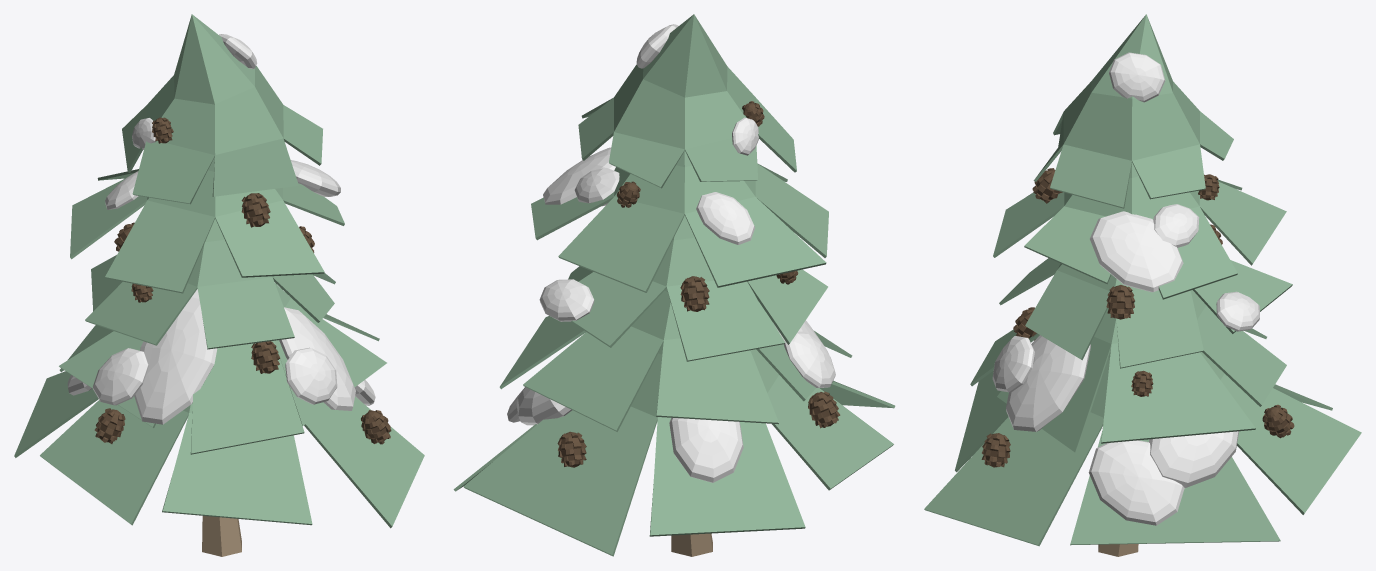
The model's file is Arbol Exterior 4.fbx.
3 renders of one model, left to right at view 1: azimuth 30°, elevation 25°; view 2: azimuth 150°, elevation 25°; view 3: azimuth 270°, elevation 25°, orthographic. The views are drawn at different scales.
Parts seen in each view (by area): view 1: Hojas_5, hojas_1, Hojas_2, Hojas_4, Hojas_3, pSphere36, pSphere43, pSphere44, pSphere42, Tronco_Dif_1, pSphere37, pSphere33 (+6 smaller); view 2: Hojas_5, Hojas_2, Hojas_4, hojas_1, Hojas_3, pSphere35, pSphere40, pSphere42, pSphere38, pSphere37, pSphere46, pSphere39 (+6 smaller); view 3: Hojas_5, Hojas_4, hojas_1, Hojas_2, Hojas_3, pSphere45, pSphere37, pSphere43, pSphere46, pSphere41, pSphere44, pSphere39 (+5 smaller).
Boxes of the visible parts, x1=… form: Hojas_5: x1=14, y1=371, x2=424, y2=528; hojas_1: x1=122, y1=14, x2=322, y2=204; Hojas_2: x1=70, y1=157, x2=344, y2=293; Hojas_4: x1=59, y1=283, x2=386, y2=454; Hojas_3: x1=85, y1=218, x2=335, y2=349; pSphere36: x1=134, y1=289, x2=217, y2=424; pSphere43: x1=279, y1=307, x2=355, y2=410; pSphere44: x1=285, y1=347, x2=337, y2=404; pSphere42: x1=92, y1=348, x2=148, y2=405; Tronco_Dif_1: x1=202, y1=516, x2=241, y2=556; pSphere37: x1=290, y1=160, x2=340, y2=196; pSphere33: x1=94, y1=408, x2=125, y2=443; Hojas_5: x1=453, y1=343, x2=895, y2=556; Hojas_2: x1=531, y1=150, x2=828, y2=292; Hojas_4: x1=499, y1=288, x2=852, y2=431; hojas_1: x1=578, y1=14, x2=796, y2=188; Hojas_3: x1=568, y1=215, x2=827, y2=361; pSphere35: x1=669, y1=417, x2=743, y2=482; pSphere40: x1=696, y1=192, x2=754, y2=244; pSphere42: x1=784, y1=331, x2=835, y2=387; pSphere38: x1=539, y1=279, x2=594, y2=321; pSphere37: x1=543, y1=147, x2=615, y2=204; pSphere46: x1=516, y1=387, x2=572, y2=425; pSphere39: x1=574, y1=168, x2=619, y2=206; Hojas_5: x1=924, y1=350, x2=1361, y2=546; Hojas_4: x1=970, y1=290, x2=1286, y2=453; hojas_1: x1=1033, y1=14, x2=1233, y2=208; Hojas_2: x1=993, y1=162, x2=1286, y2=299; Hojas_3: x1=999, y1=258, x2=1292, y2=368; pSphere45: x1=1088, y1=440, x2=1184, y2=525; pSphere37: x1=1090, y1=211, x2=1183, y2=292; pSphere43: x1=1006, y1=335, x2=1090, y2=431; pSphere46: x1=1149, y1=431, x2=1238, y2=487; pSphere41: x1=1109, y1=52, x2=1165, y2=102; pSphere44: x1=992, y1=336, x2=1034, y2=392; pSphere39: x1=1153, y1=204, x2=1199, y2=247.
Size of the model in its own units: 5.04 by 7.9 by 5.97.
